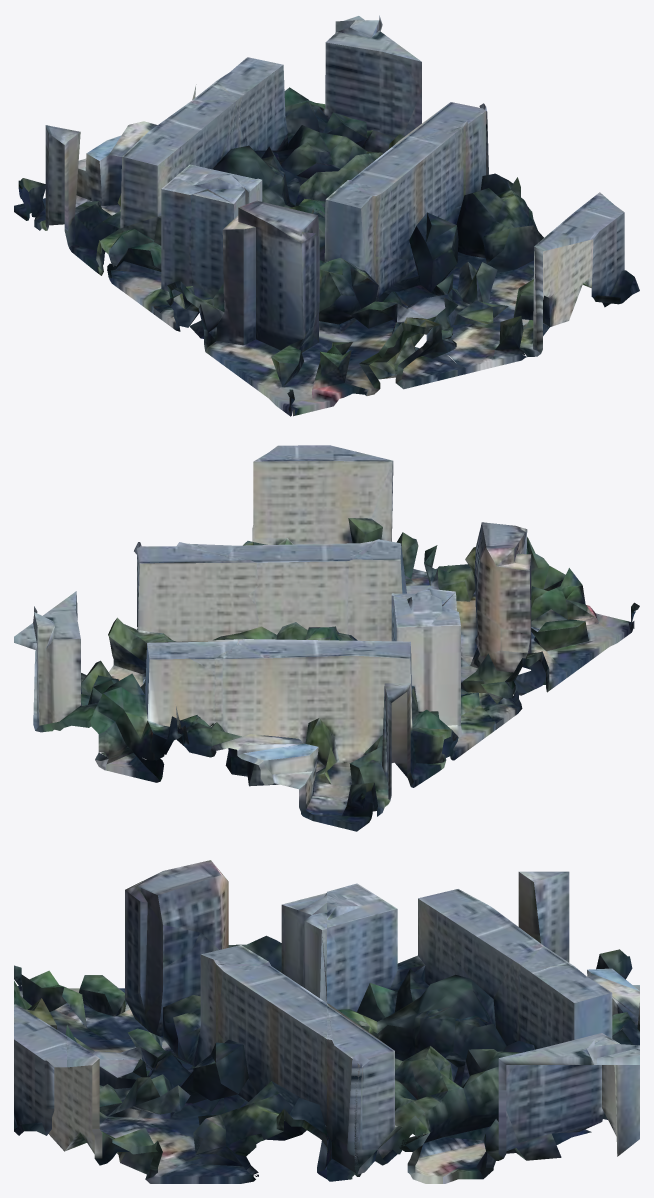
3 renders of one model, top to bottom at view 1: azimuth 30°, elevation 25°; view 2: azimuth 150°, elevation 25°; view 3: azimuth 270°, elevation 25°, orthographic. The views are drawn at different scales.
Visible parts, largest first — view 1: 304362727043616254_0; view 2: 304362727043616254_0; view 3: 304362727043616254_0.
Boxes of the visible parts, x1,y1,x2,y2 form: 304362727043616254_0: (14, 15, 639, 416); 304362727043616254_0: (14, 445, 639, 831); 304362727043616254_0: (14, 860, 639, 1183).
Bounding box in the file's own units: 112 × 41.92 × 153.
Materials: 1 (1 with a texture image).
